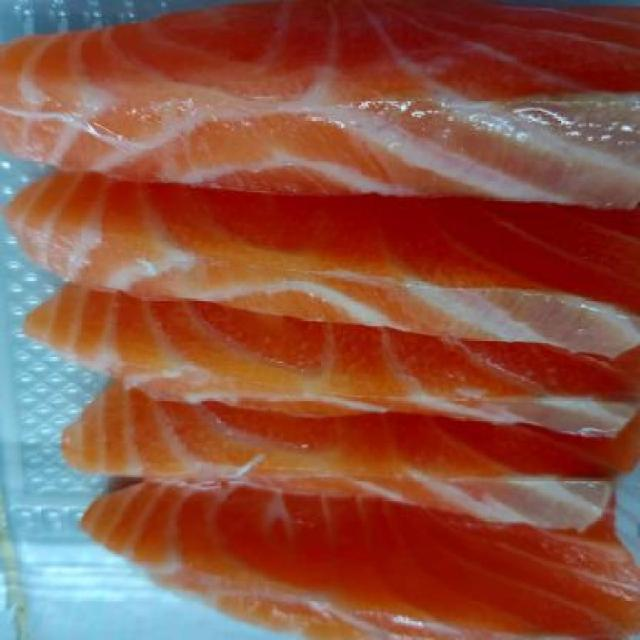salmon: (22, 151, 639, 363), (12, 8, 640, 215), (56, 294, 640, 486), (74, 469, 640, 637)
